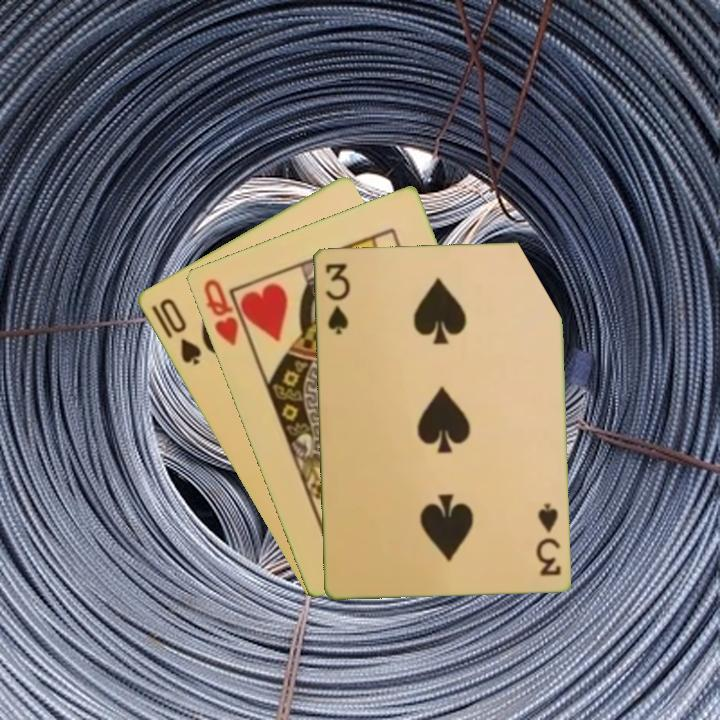10s: (147, 294, 204, 368)
3s: (531, 499, 563, 579), (321, 259, 352, 337)
Qh: (199, 275, 252, 349)
